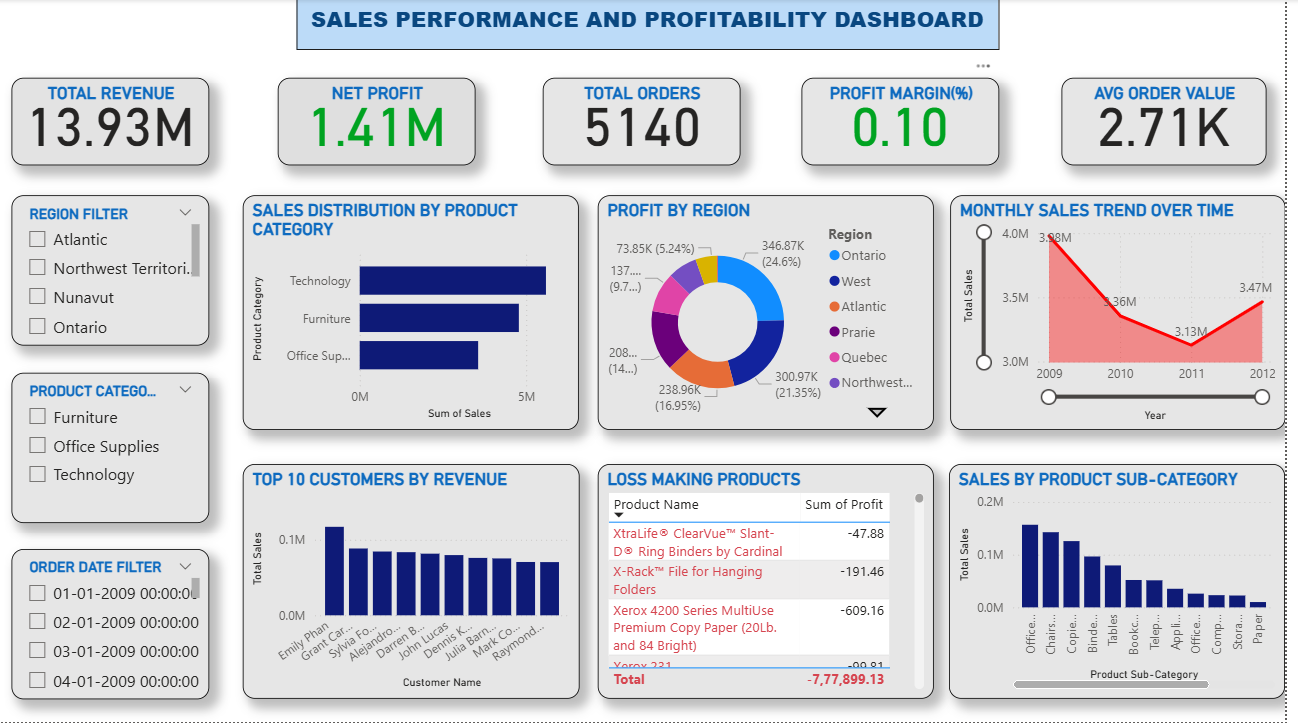

Layout of this report page (visuals, bound fields, positions):
{"tool":"powerbi","page":{"name":"Page 1","canvas":[1280,720],"ordinal":0},"visuals":[{"type":"textbox","box":[296.4,0,698.5,50.8],"z":0},{"type":"card","title":"TOTAL REVENUE","fields":{"Values":["Sheet1.Total Sales"]},"box":[12.8,78.4,196.7,86.9],"z":1000},{"type":"card","title":"NET PROFIT","fields":{"Values":["Sheet1.Total Profit"]},"box":[278,78.4,196.7,86.9],"z":2000},{"type":"card","title":"TOTAL ORDERS","fields":{"Values":["Sheet1.Total Orders"]},"box":[541.6,78.4,196.7,86.9],"z":3000},{"type":"card","title":"PROFIT MARGIN(%)","fields":{"Values":["Sheet1.Profit Margin"]},"box":[798.2,78.4,196.7,86.9],"z":4000},{"type":"card","title":"AVG ORDER VALUE","fields":{"Values":["Sheet1.AOV"]},"box":[1057.4,78.4,204,87.1],"z":5000},{"type":"slicer","fields":{"Values":["Sheet1.Region"]},"box":[12.8,195.3,196.7,149.7],"z":6000},{"type":"slicer","fields":{"Values":["Sheet1.Product Category"]},"box":[12.8,372,196.7,149.7],"z":7000},{"type":"slicer","fields":{"Values":["Sheet1.Order Date"]},"box":[12.8,547.3,196.7,149.7],"z":8000},{"type":"barChart","title":"SALES DISTRIBUTION BY PRODUCT CATEGORY","fields":{"Category":["Sheet1.Product Category"],"Y":["Sum(Sheet1.Sales)"]},"box":[242.6,195.3,334.6,233.9],"z":9000},{"type":"donutChart","title":"PROFIT BY REGION","fields":{"Category":["Sheet1.Region"],"Y":["Sheet1.Total Profit"]},"box":[595.9,195.3,334.6,233.9],"z":10000},{"type":"lineChart","title":"MONTHLY SALES TREND OVER TIME","fields":{"Category":["Sheet1.Order Date.Variation.Date Hierarchy.Year","Sheet1.Order Date.Variation.Date Hierarchy.Quarter","Sheet1.Order Date.Variation.Date Hierarchy.Month","Sheet1.Order Date.Variation.Date Hierarchy.Day"],"Y":["Sheet1.Total Sales"]},"box":[946.7,195.3,333.4,233.9],"z":11000},{"type":"columnChart","title":"TOP 10 CUSTOMERS BY REVENUE","fields":{"Category":["Sheet1.Customer Name"],"Y":["Sheet1.Total Sales"]},"box":[242.3,463.3,335,233.8],"z":12000},{"type":"tableEx","title":"LOSS MAKING PRODUCTS","fields":{"Values":["Sheet1.Product Name","Sum(Sheet1.Profit)"]},"box":[595.9,462.8,334.6,233.9],"z":13000},{"type":"columnChart","title":"SALES BY PRODUCT SUB-CATEGORY","fields":{"Category":["Sheet1.Product Sub-Category"],"Y":["Sheet1.Total Sales"]},"box":[945.4,462.8,334.6,233.9],"z":14000}]}

Visuals, with their boxes in screenshot pixels (x1, y1, x2, y2), scaled from the page's 1280x720 canvas onto the 1298x723 screenshot:
textbox: select_region(301, 0, 1009, 51)
"TOTAL REVENUE" card: select_region(13, 79, 212, 166)
"NET PROFIT" card: select_region(282, 79, 481, 166)
"TOTAL ORDERS" card: select_region(549, 79, 749, 166)
"PROFIT MARGIN(%)" card: select_region(809, 79, 1009, 166)
"AVG ORDER VALUE" card: select_region(1072, 79, 1279, 166)
slicer - Sheet1.Region: select_region(13, 196, 212, 346)
slicer - Sheet1.Product Category: select_region(13, 374, 212, 524)
slicer - Sheet1.Order Date: select_region(13, 550, 212, 700)
"SALES DISTRIBUTION BY PRODUCT CATEGORY" barChart: select_region(246, 196, 585, 431)
"PROFIT BY REGION" donutChart: select_region(604, 196, 944, 431)
"MONTHLY SALES TREND OVER TIME" lineChart: select_region(960, 196, 1297, 431)
"TOP 10 CUSTOMERS BY REVENUE" columnChart: select_region(246, 465, 585, 700)
"LOSS MAKING PRODUCTS" tableEx: select_region(604, 465, 944, 700)
"SALES BY PRODUCT SUB-CATEGORY" columnChart: select_region(959, 465, 1297, 700)
